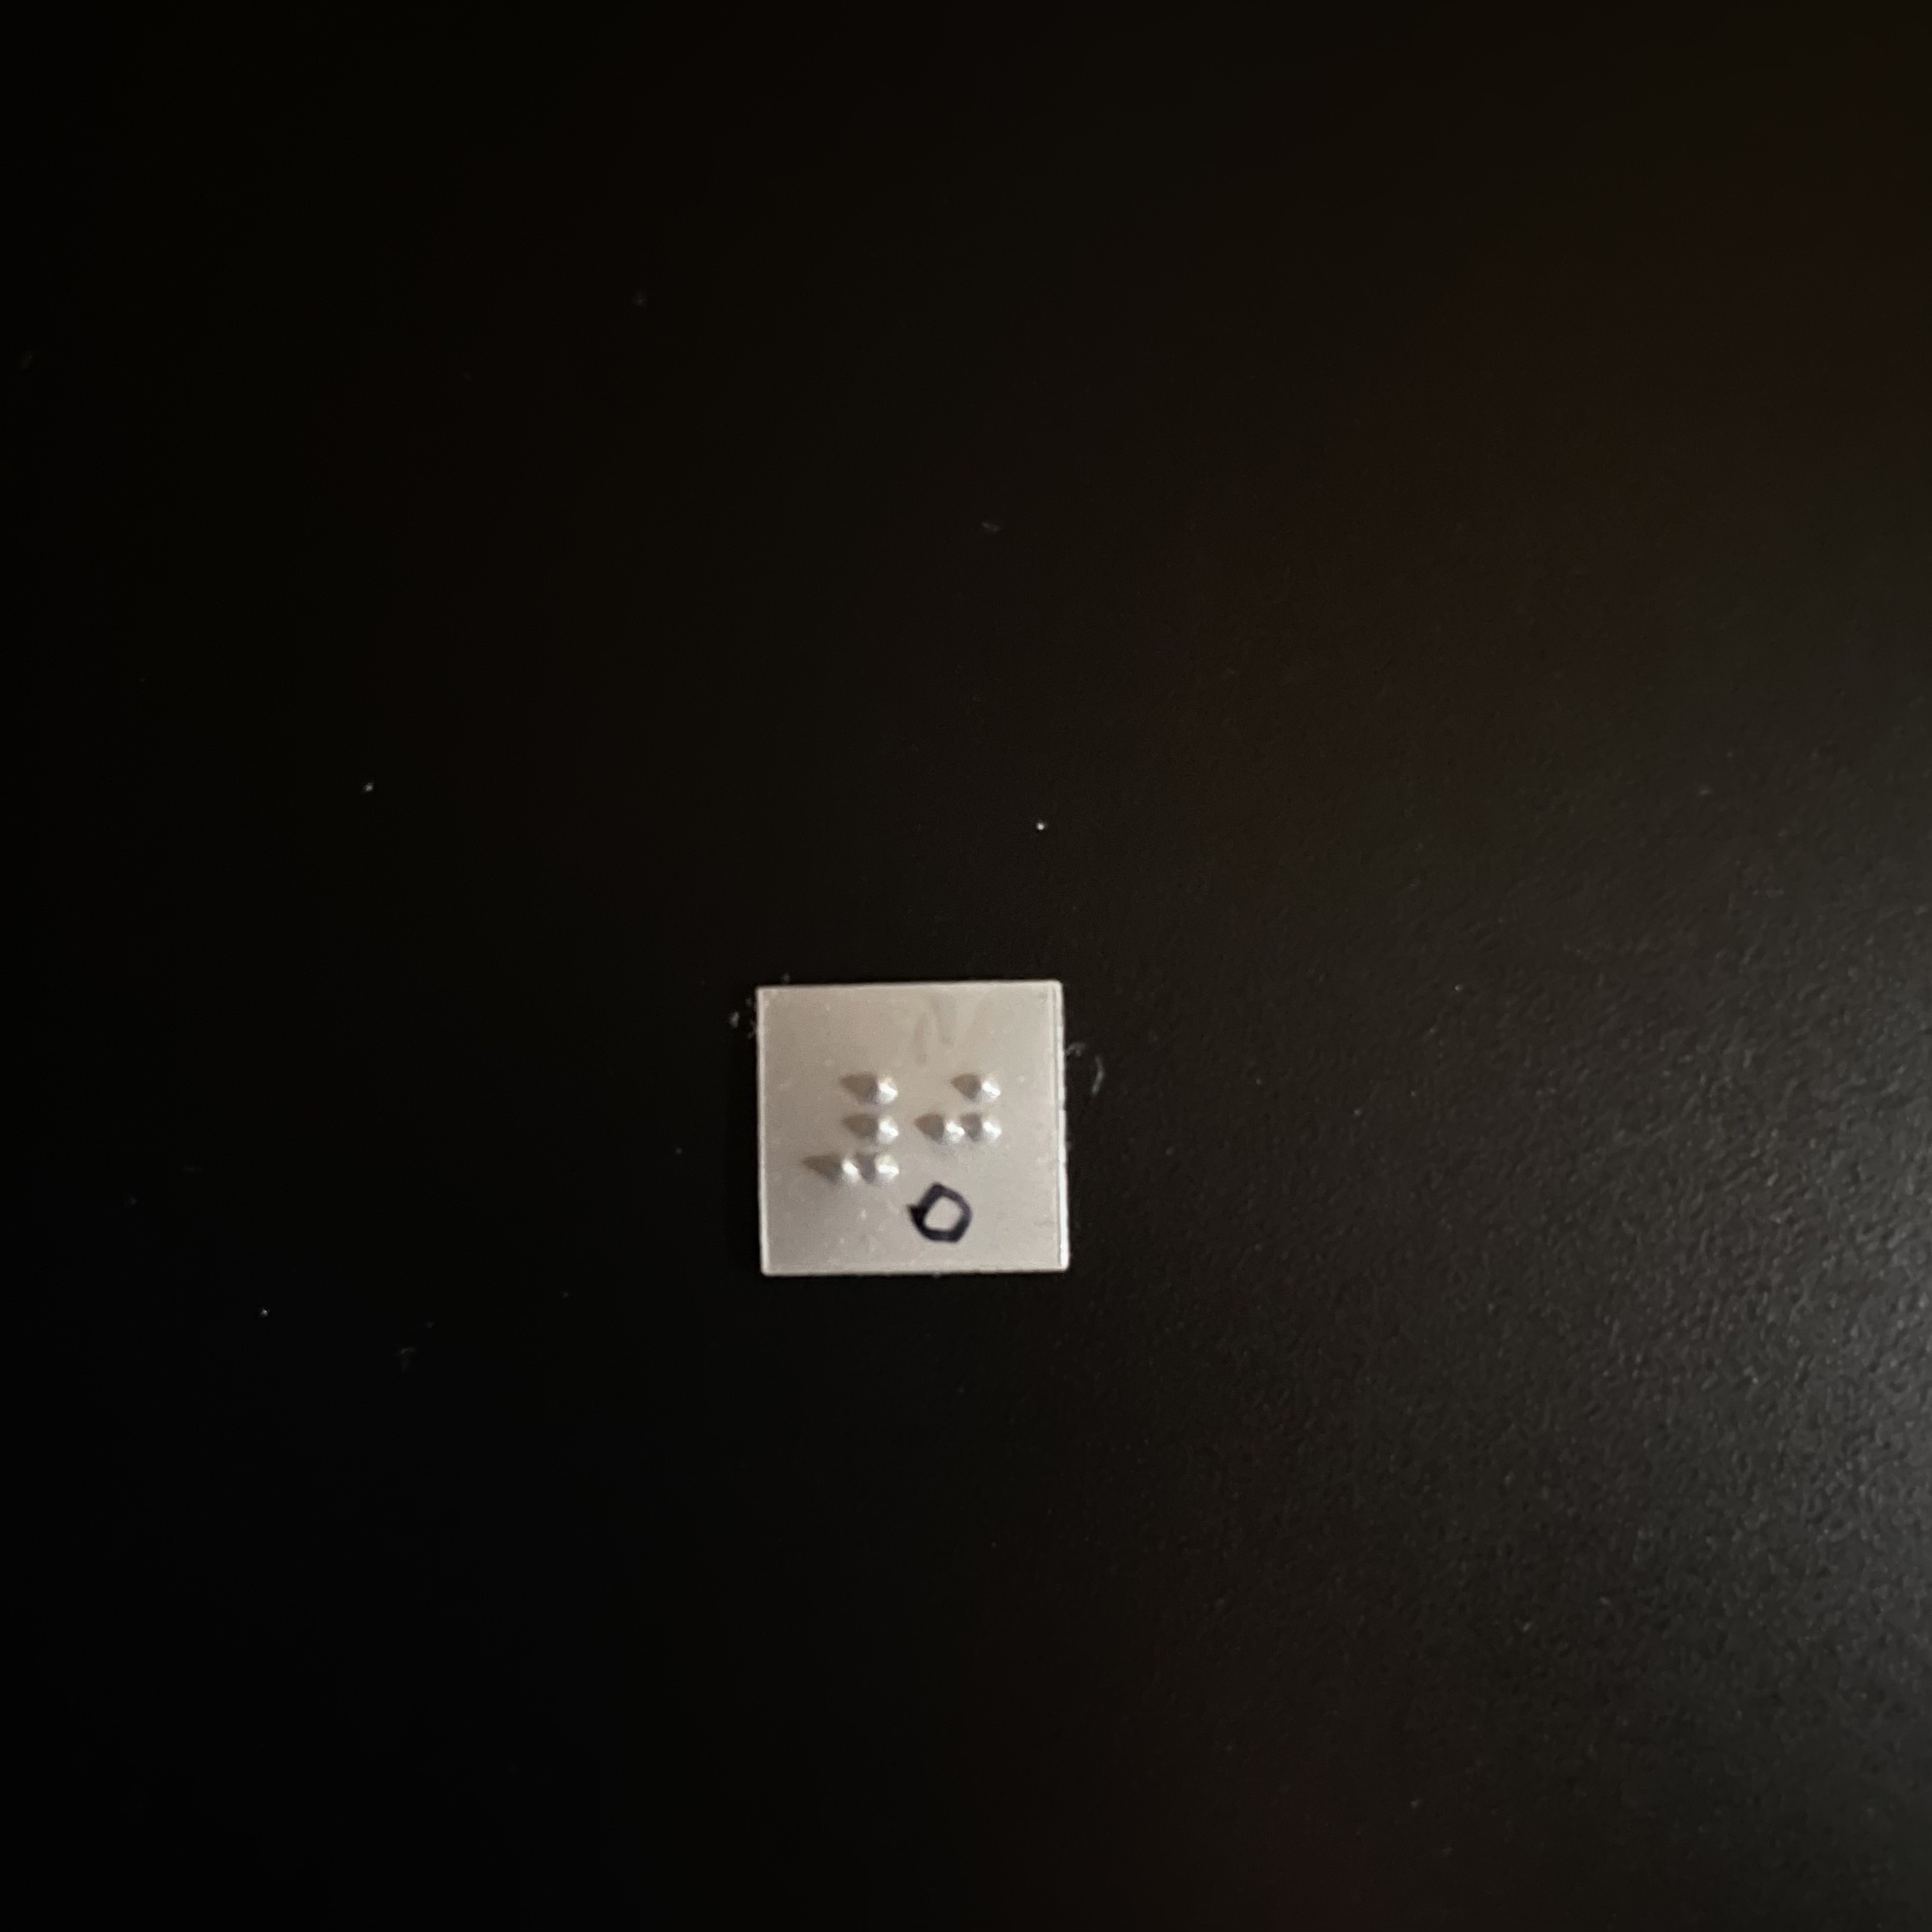#: (802, 1071, 903, 1192)
j: (912, 1073, 1003, 1196)
